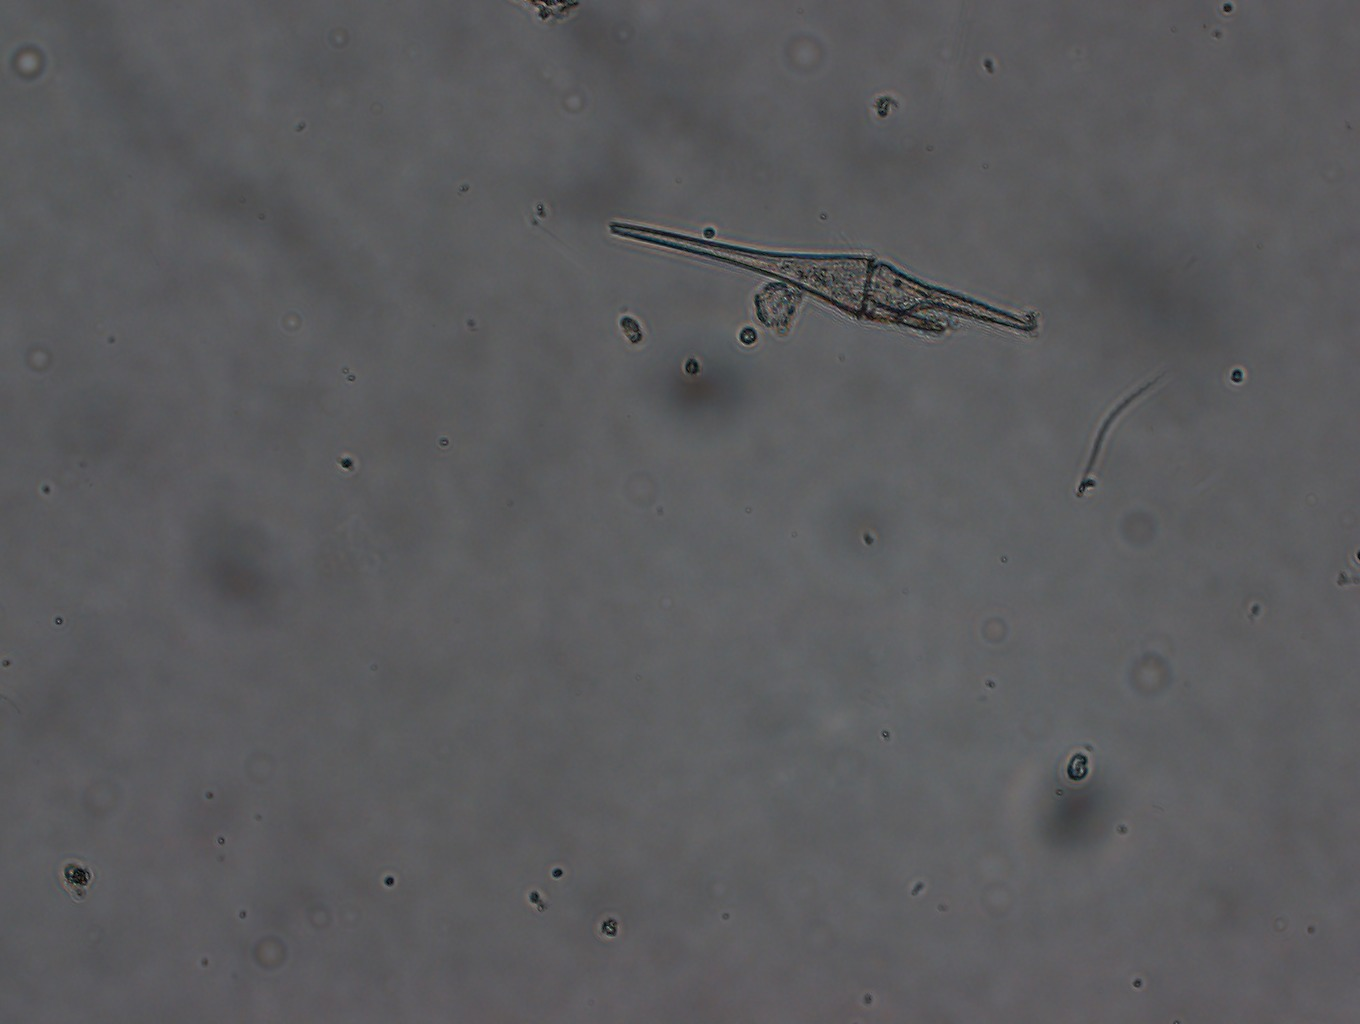ceratium furca: (605, 218, 1043, 336)
